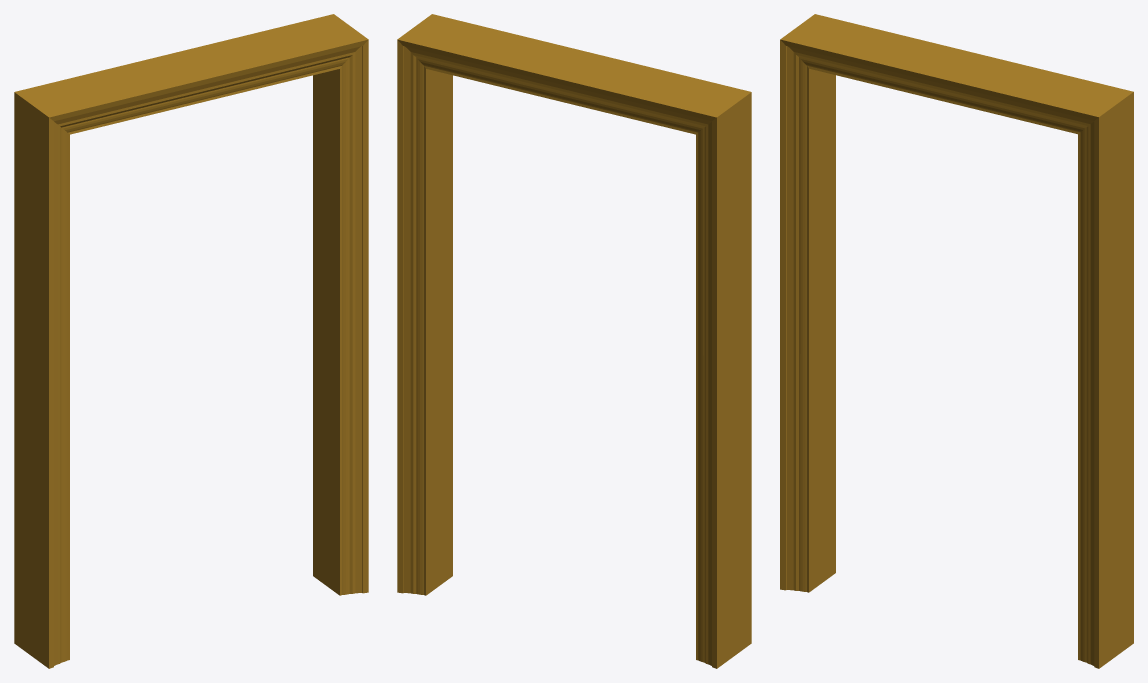
File: door frame.fbx
3 renders of one model, left to right at view 1: azimuth 30°, elevation 25°; view 2: azimuth 150°, elevation 25°; view 3: azimuth 330°, elevation 25°, orthographic.
Visible parts, largest first — view 1: Cube.010; view 2: Cube.010; view 3: Cube.010.
Part boxes in pixels (x1,y1,x2,y2): Cube.010: (14,14,368,668); Cube.010: (397,14,751,668); Cube.010: (780,14,1133,668).
Size of the model in its own units: 133 by 220 by 25.23.
